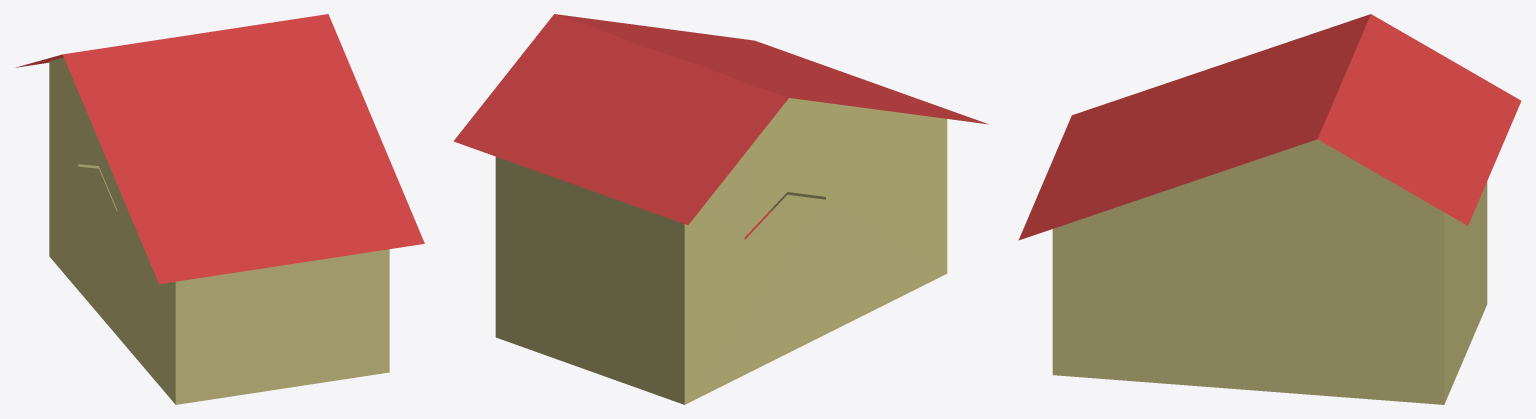
3 renders of one model, left to right at view 1: azimuth 30°, elevation 25°; view 2: azimuth 150°, elevation 25°; view 3: azimuth 270°, elevation 25°, orthographic. The views are drawn at different scales.
Bounding box in the file's own units: 12.8 × 17.06 × 10.06.
